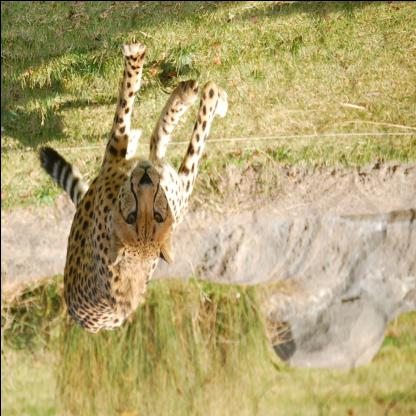leopard: (104, 154, 176, 270)
